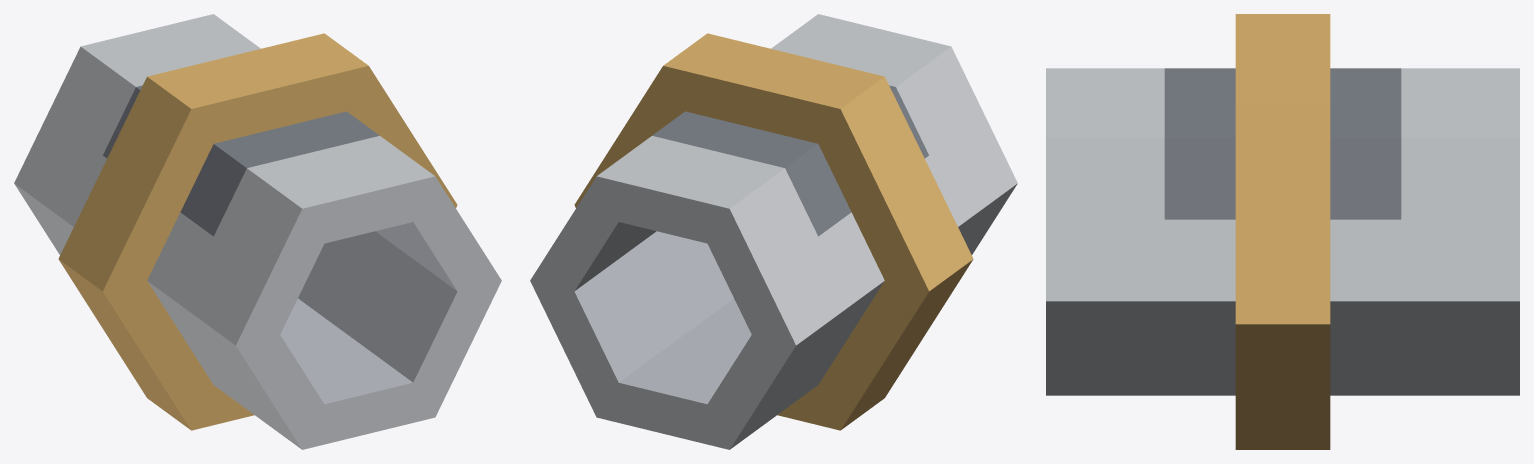
The model's file is pipe_ring.glb.
The picture shows the model from 3 angles, left to right: view 1: azimuth 30°, elevation 25°; view 2: azimuth 150°, elevation 25°; view 3: azimuth 270°, elevation 25°; orthographic projection. The views are drawn at different scales.
Visible parts, largest first — view 1: pipe_ring; view 2: pipe_ring; view 3: pipe_ring.
Boxes of the visible parts, <box> form: pipe_ring: <box>14,14,501,449</box>; pipe_ring: <box>530,14,1017,449</box>; pipe_ring: <box>1046,14,1519,449</box>.
Size of the model in its own units: 0.9238 by 0.8 by 1.
